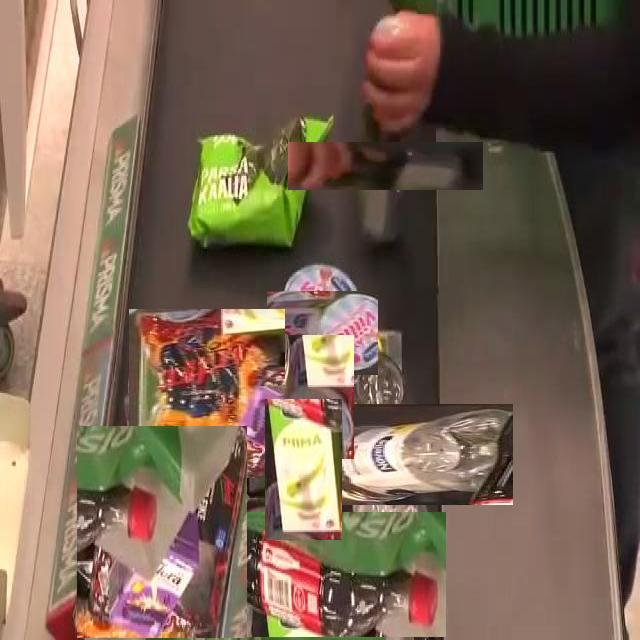beverage: (158, 511, 446, 637), (302, 367, 476, 541), (324, 104, 446, 227)
food-box: (76, 425, 247, 638), (126, 311, 288, 475), (202, 116, 331, 254), (117, 438, 230, 550), (264, 398, 342, 540), (277, 334, 354, 459), (274, 284, 372, 382)
